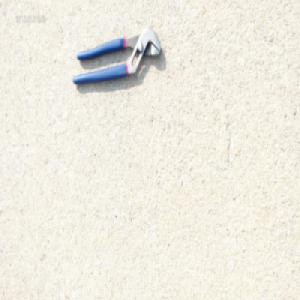Pliers: (71, 25, 162, 86)
